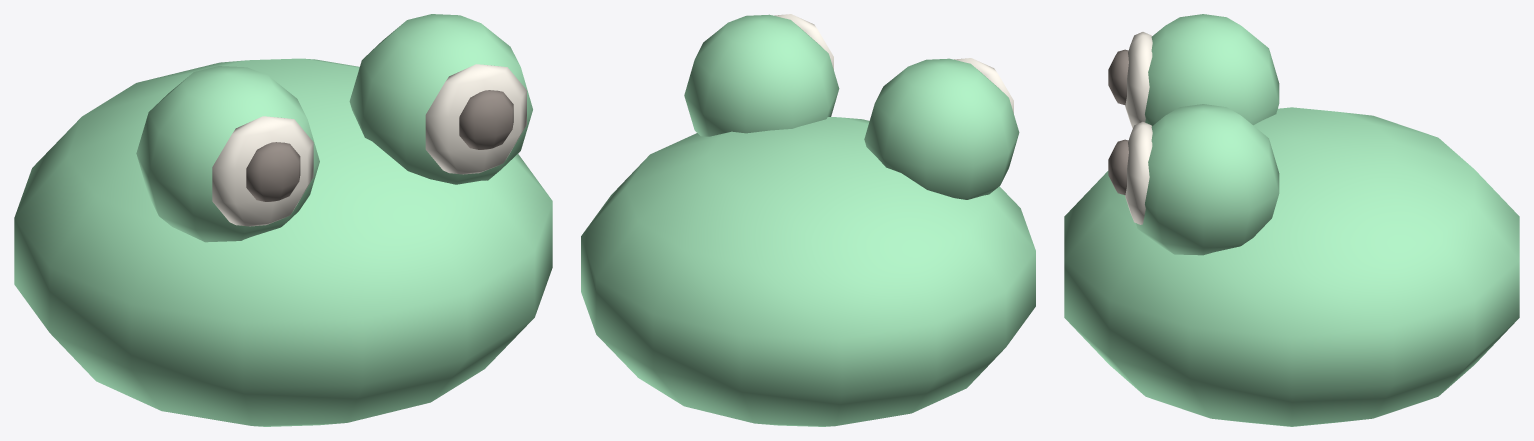
File: hat_frog.glb
The picture shows the model from 3 angles, left to right: view 1: azimuth 30°, elevation 25°; view 2: azimuth 150°, elevation 25°; view 3: azimuth 270°, elevation 25°; orthographic projection. The views are drawn at different scales.
Parts seen in each view (by area): view 1: hat_frog; view 2: hat_frog; view 3: hat_frog.
Part boxes in pixels (<box>): hat_frog: <box>14,14,552,426</box>; hat_frog: <box>581,14,1035,426</box>; hat_frog: <box>1064,14,1519,426</box>.
Bounding box in the file's own units: 26.32 × 20.5 × 25.66.
